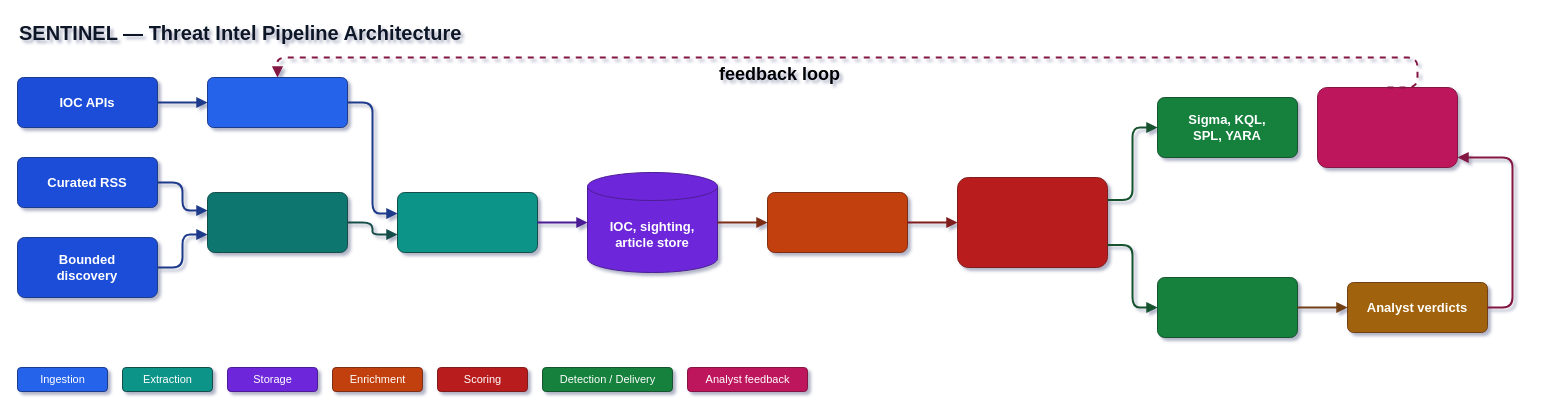
The diagram is 1545 pixels wide and 415 high, and some of its shapes have lost their labels. Here are the shapes that lost their labels. From the top down, the box of each, then its label:
(206, 76, 348, 128): Source adapters
(1316, 86, 1458, 168): Replay- evaluated source trust
(206, 192, 348, 252): Article fetch and IOC extraction
(396, 192, 538, 252): Normalize and validate
(766, 192, 908, 252): VT, Shodan, AbuseIPDB
(956, 176, 1108, 268): Risk score and ATT&CK mapping
(1156, 276, 1298, 338): Telegram alerts and digest
